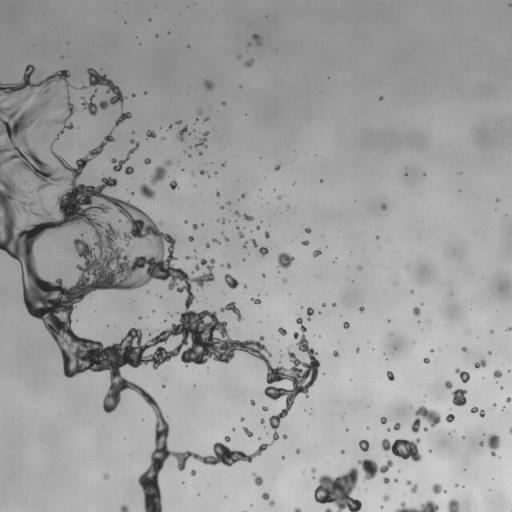droplet: (314, 467, 360, 511), (83, 68, 125, 115), (411, 405, 441, 432), (357, 458, 392, 480), (486, 433, 500, 456), (277, 252, 294, 268), (452, 389, 467, 406), (140, 183, 155, 199), (455, 368, 469, 383), (224, 274, 238, 288), (447, 499, 459, 511), (432, 483, 446, 493), (252, 472, 262, 485), (359, 440, 370, 451), (475, 359, 486, 368), (307, 307, 314, 320), (204, 80, 213, 90), (39, 99, 49, 108), (259, 246, 268, 256), (252, 34, 260, 45), (146, 130, 156, 138), (169, 180, 177, 189), (445, 414, 454, 422), (125, 166, 133, 174), (278, 327, 286, 335), (245, 59, 254, 66), (387, 371, 394, 380), (493, 370, 502, 377), (120, 504, 129, 511), (313, 250, 321, 257), (413, 307, 420, 315), (445, 380, 452, 388), (380, 416, 387, 424), (343, 321, 349, 329), (251, 298, 260, 303), (394, 423, 400, 430), (383, 494, 389, 501), (144, 158, 150, 164), (423, 357, 429, 363), (383, 477, 389, 483), (293, 507, 301, 511), (381, 203, 386, 209), (188, 236, 194, 241), (302, 240, 308, 245), (359, 306, 364, 312), (462, 346, 467, 352), (333, 351, 338, 357), (262, 406, 268, 411), (224, 436, 230, 441), (103, 474, 109, 479), (212, 239, 219, 243), (274, 165, 279, 170), (192, 224, 197, 229), (305, 228, 310, 233), (226, 263, 231, 268), (282, 278, 287, 283), (506, 397, 511, 402), (265, 232, 269, 238), (250, 399, 254, 405), (191, 469, 195, 475), (176, 120, 181, 124), (200, 170, 205, 174), (221, 218, 225, 223), (506, 327, 511, 331), (282, 434, 287, 438), (204, 117, 208, 121), (198, 151, 202, 155), (241, 193, 245, 197), (256, 225, 260, 229), (224, 237, 228, 241), (243, 284, 247, 288), (322, 303, 326, 307), (240, 417, 244, 421), (423, 427, 427, 431), (311, 468, 315, 472), (454, 483, 458, 487), (216, 191, 219, 196), (186, 256, 191, 259), (480, 441, 483, 446), (82, 85, 85, 89), (131, 93, 135, 96), (379, 96, 383, 99), (206, 243, 209, 247), (358, 266, 361, 270), (356, 348, 359, 352), (260, 419, 264, 422), (296, 449, 299, 453), (247, 43, 250, 46), (198, 110, 201, 113), (169, 125, 172, 128), (222, 163, 225, 166), (278, 196, 281, 199), (227, 201, 230, 204), (376, 236, 379, 239), (262, 274, 265, 277), (332, 303, 335, 306), (490, 330, 493, 333), (387, 428, 390, 431), (341, 450, 344, 453), (394, 479, 397, 482), (509, 3, 511, 6), (238, 55, 240, 58), (410, 290, 413, 292), (139, 316, 141, 319), (431, 349, 433, 352), (488, 351, 491, 353), (162, 385, 165, 387), (232, 428, 235, 430), (281, 456, 284, 458), (380, 506, 383, 508), (144, 91, 146, 93), (222, 103, 224, 105), (131, 193, 133, 195), (220, 206, 222, 208), (164, 319, 166, 321), (148, 333, 150, 335), (502, 407, 504, 409)
ligament: (0, 105, 317, 511), (0, 64, 71, 96), (52, 92, 75, 143), (381, 438, 422, 461), (111, 139, 139, 171), (150, 159, 171, 185), (394, 500, 438, 511), (220, 302, 242, 320), (195, 131, 208, 147), (176, 125, 187, 141), (234, 211, 253, 220), (261, 492, 274, 505), (406, 480, 417, 493), (470, 407, 484, 417), (242, 427, 253, 437), (237, 228, 243, 238), (250, 239, 257, 247), (243, 241, 248, 248), (325, 507, 332, 511), (509, 428, 511, 434)
